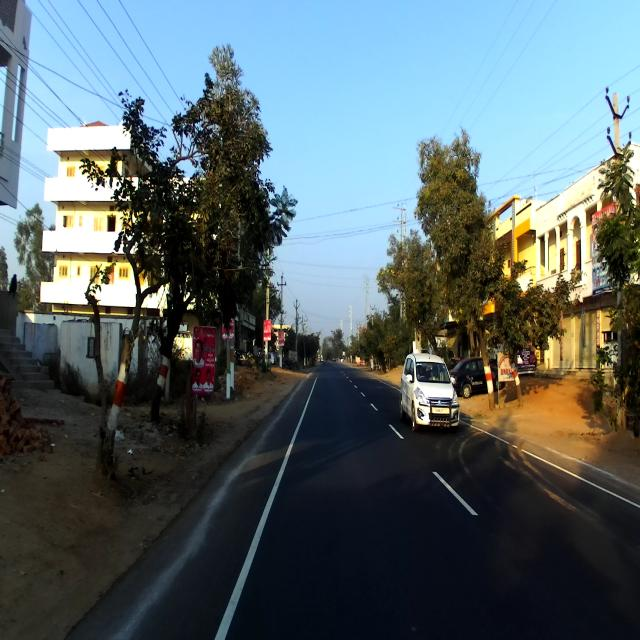car ahead at: (398, 352, 465, 442)
tree ahead at: (97, 139, 171, 473)
